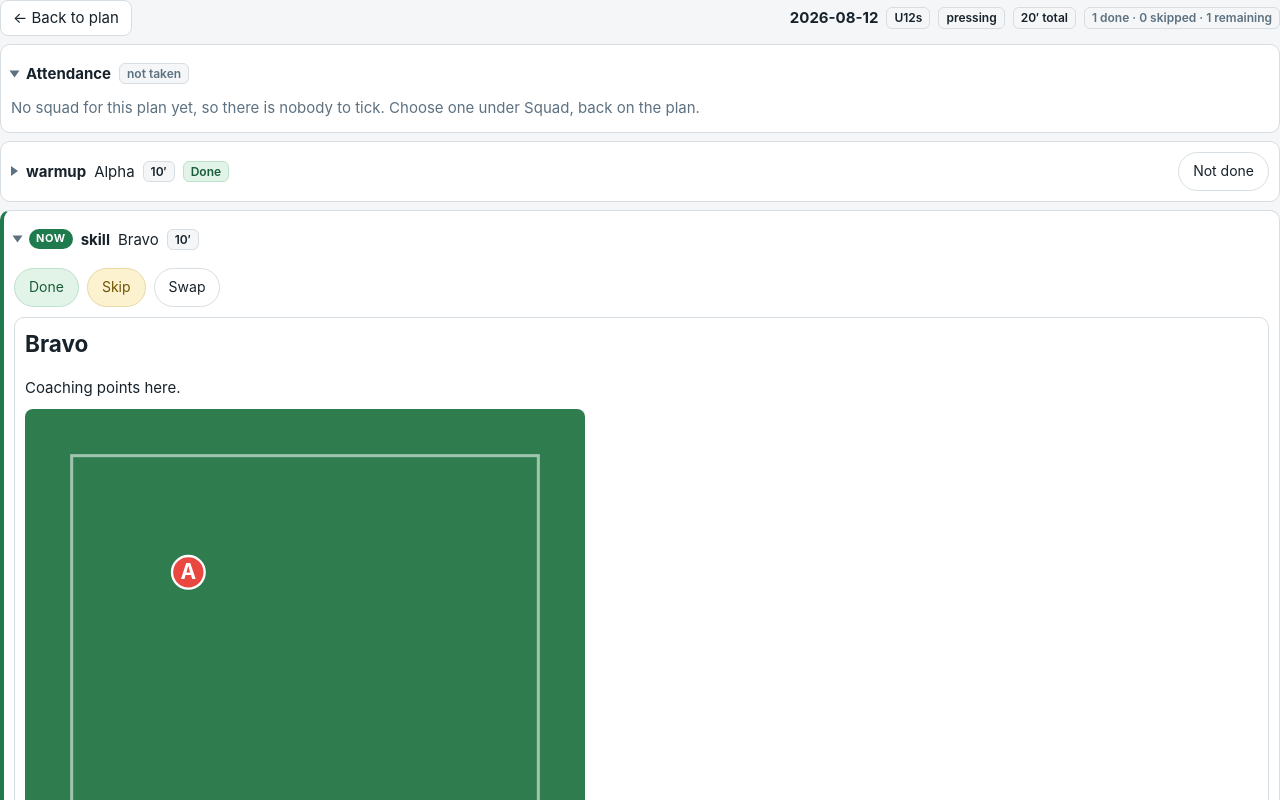
Test: SessionRun swapping a drill › un-marking a block while its picker is open leaves it showing the drill, not the picker
The image size is (1280, 800).
Click the button with class "run-block-summary" showing "warmup Alpha 10′ Done" at (56, 171), box [11, 152, 1170, 190]
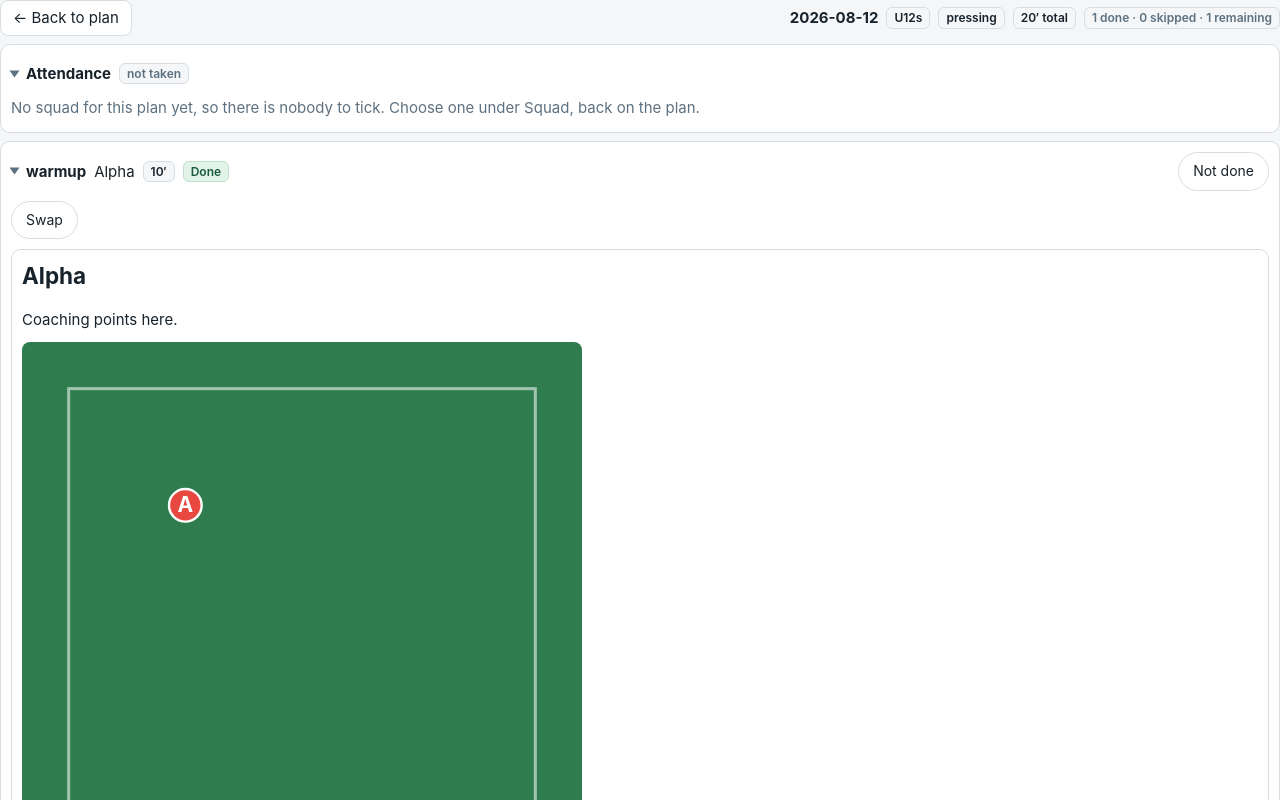
Click the button "Swap" at (44, 220), box [11, 200, 78, 239]
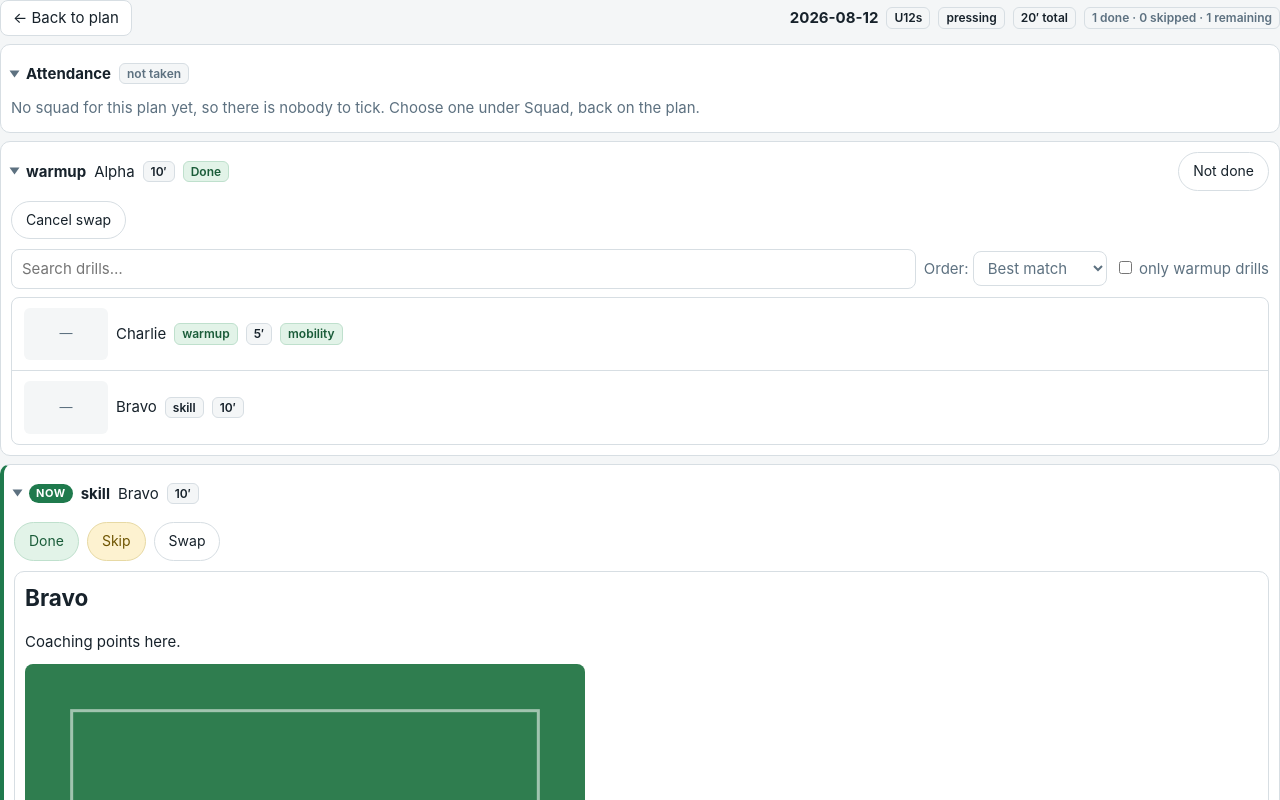
Click the button "Not done" at (1224, 171), box [1178, 152, 1269, 191]
(page scrolled)
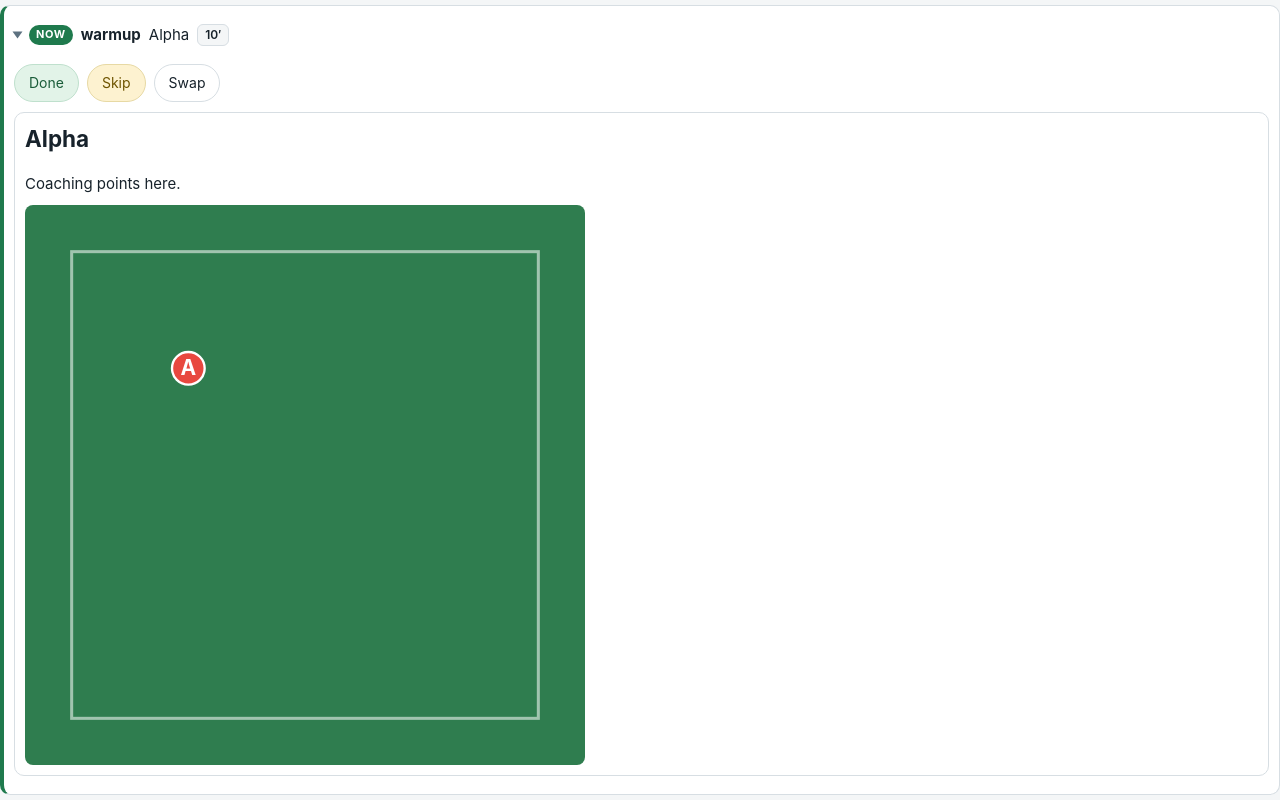
Expected: the element with class "drill-picker" is gone
Expected: the element with class "run-block" shows "Coaching points here", [25, 174, 180, 193]
